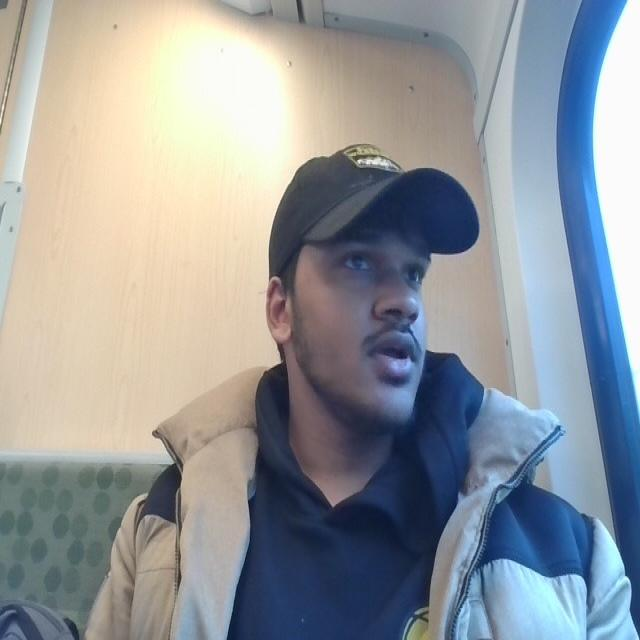hat: (252, 126, 484, 269)
